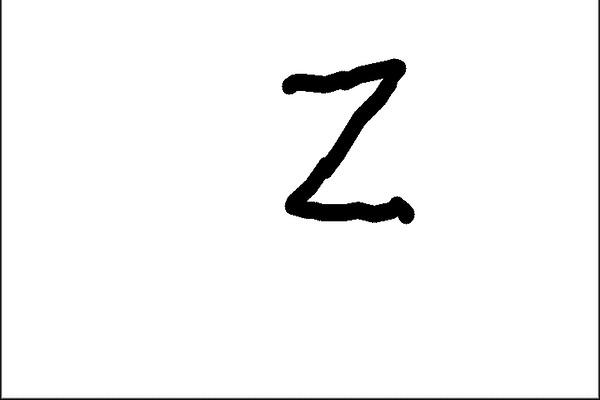Z: (272, 52, 425, 225)
